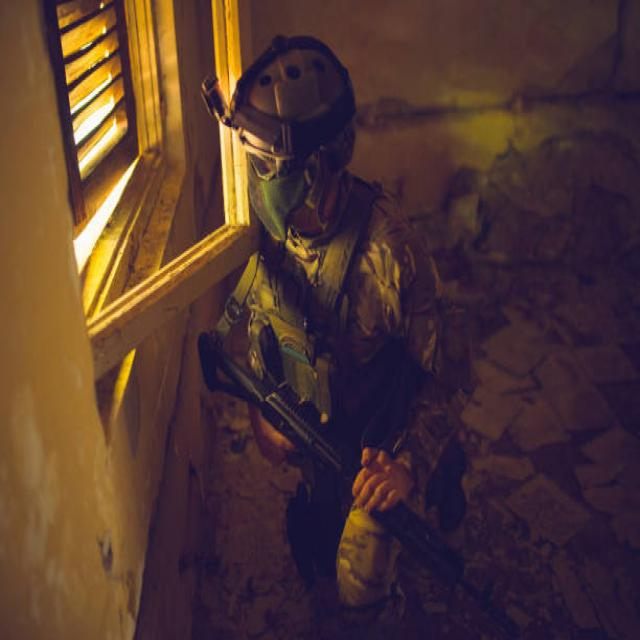soldier: (192, 40, 494, 621)
